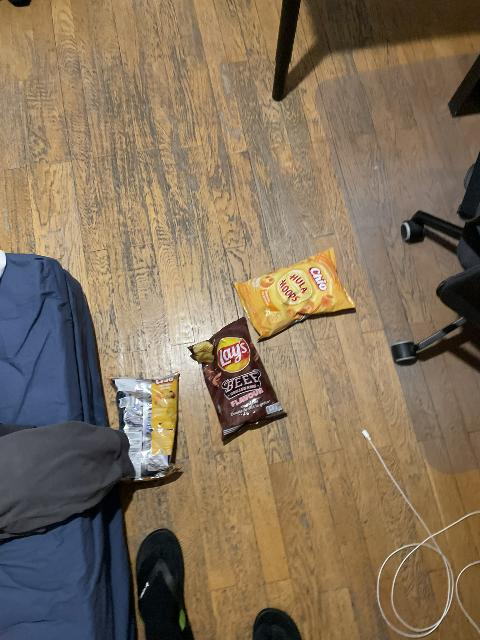Chio Cascaval 125g: (108, 373, 181, 477)
Chio Hula Hoops Cheese 70g: (233, 248, 354, 336)
Lays Beef Grilled Ribs 125g: (189, 324, 286, 441)
